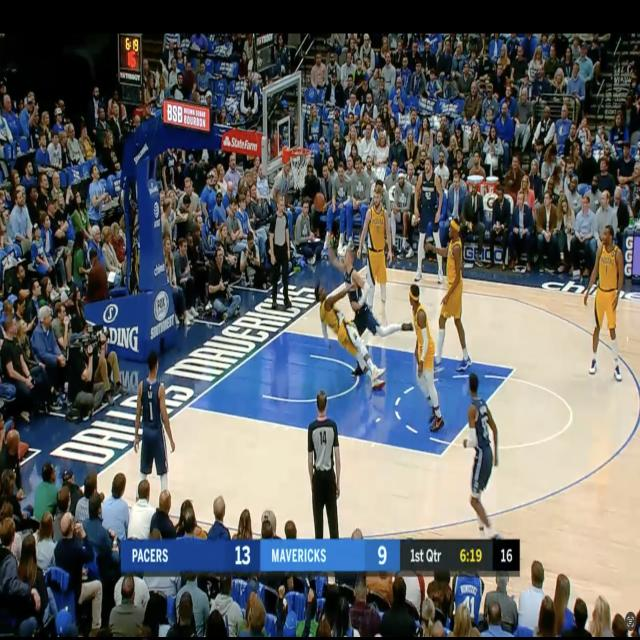foul: (300, 248, 402, 398)
no foul: (400, 208, 466, 442)
